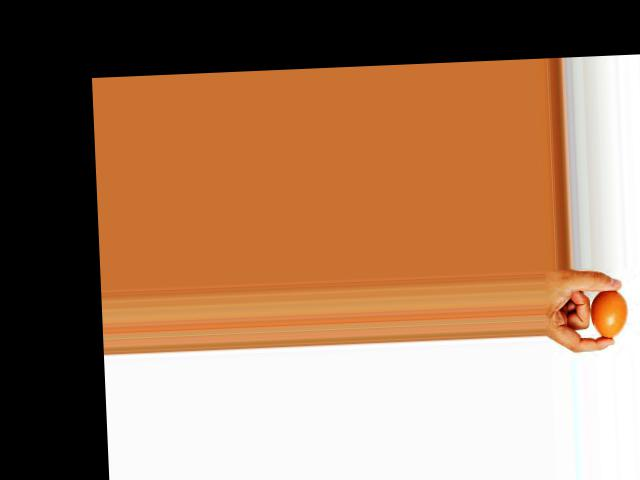egg: (589, 289, 629, 339)
